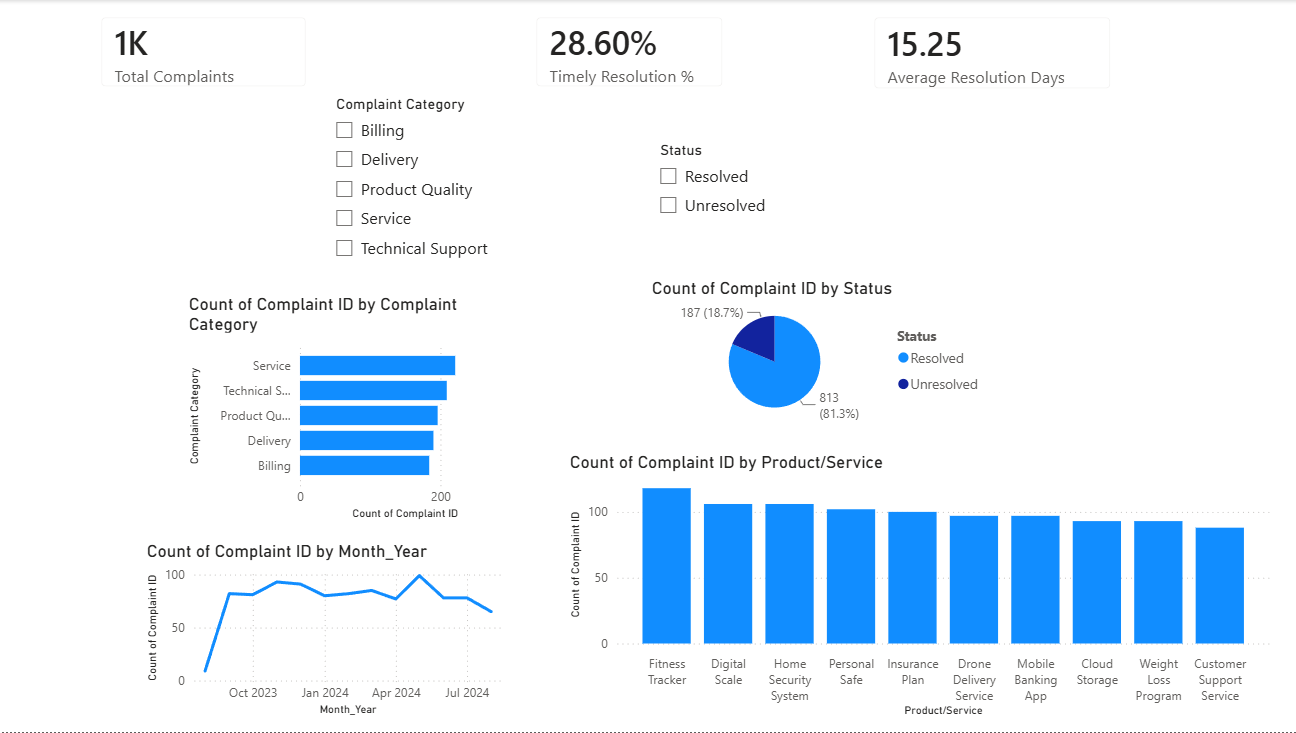

The page's visual inventory and layout, read from the dashboard file:
{"tool":"powerbi","page":{"name":"Page 1","canvas":[1280,720],"ordinal":0},"visuals":[{"type":"cardVisual","fields":{"Data":["CountNonNull(cleaned_consumer_grievances.Complaint ID)"]},"box":[86.3,0,235.5,102.5],"z":0},{"type":"cardVisual","fields":{"Data":["cleaned_consumer_grievances.Timely Resolution %"]},"box":[514.2,0,217.5,102.5],"z":1000},{"type":"cardVisual","fields":{"Data":["cleaned_consumer_grievances.Avg Resolution Days"]},"box":[846.7,0,266.1,104.3],"z":2000},{"type":"clusteredBarChart","fields":{"Category":["cleaned_consumer_grievances.Complaint Category"],"Y":["CountNonNull(cleaned_consumer_grievances.Complaint ID)"]},"box":[185.2,289.4,336.2,226.5],"z":3000},{"type":"lineChart","fields":{"Y":["CountNonNull(cleaned_consumer_grievances.Complaint ID)"],"Category":["cleaned_consumer_grievances.Month_Year"]},"box":[143.8,532.1,370.3,176.2],"z":4000},{"type":"pieChart","fields":{"Category":["cleaned_consumer_grievances.Status"],"Y":["CountNonNull(cleaned_consumer_grievances.Complaint ID)"]},"box":[640,273.3,339.8,145.6],"z":5000},{"type":"slicer","fields":{"Values":["cleaned_consumer_grievances.Complaint Category"]},"box":[321.8,89.9,192.4,183.4],"z":6000},{"type":"slicer","fields":{"Values":["cleaned_consumer_grievances.Status"]},"box":[640,134.8,206.7,106.1],"z":7000},{"type":"clusteredColumnChart","fields":{"Category":["cleaned_consumer_grievances.Product/Service"],"Y":["CountNonNull(cleaned_consumer_grievances.Complaint ID)"]},"box":[559.1,444,697.5,264.3],"z":8000}]}

Visuals, with their boxes in screenshot pixels (x1, y1, x2, y2), scaled from the page's 1280x720 canvas onto the 1296x733 screenshot:
cardVisual - CountNonNull(cleaned_consumer_grievances.Complaint ID): [x1=87, y1=0, x2=326, y2=104]
cardVisual - cleaned_consumer_grievances.Timely Resolution %: [x1=521, y1=0, x2=741, y2=104]
cardVisual - cleaned_consumer_grievances.Avg Resolution Days: [x1=857, y1=0, x2=1127, y2=106]
clusteredBarChart - cleaned_consumer_grievances.Complaint Category x CountNonNull(cleaned_consumer_grievances.Complaint ID): [x1=188, y1=295, x2=528, y2=525]
lineChart - CountNonNull(cleaned_consumer_grievances.Complaint ID) x cleaned_consumer_grievances.Month_Year: [x1=146, y1=542, x2=521, y2=721]
pieChart - cleaned_consumer_grievances.Status x CountNonNull(cleaned_consumer_grievances.Complaint ID): [x1=648, y1=278, x2=992, y2=426]
slicer - cleaned_consumer_grievances.Complaint Category: [x1=326, y1=92, x2=521, y2=278]
slicer - cleaned_consumer_grievances.Status: [x1=648, y1=137, x2=857, y2=245]
clusteredColumnChart - cleaned_consumer_grievances.Product/Service x CountNonNull(cleaned_consumer_grievances.Complaint ID): [x1=566, y1=452, x2=1272, y2=721]
